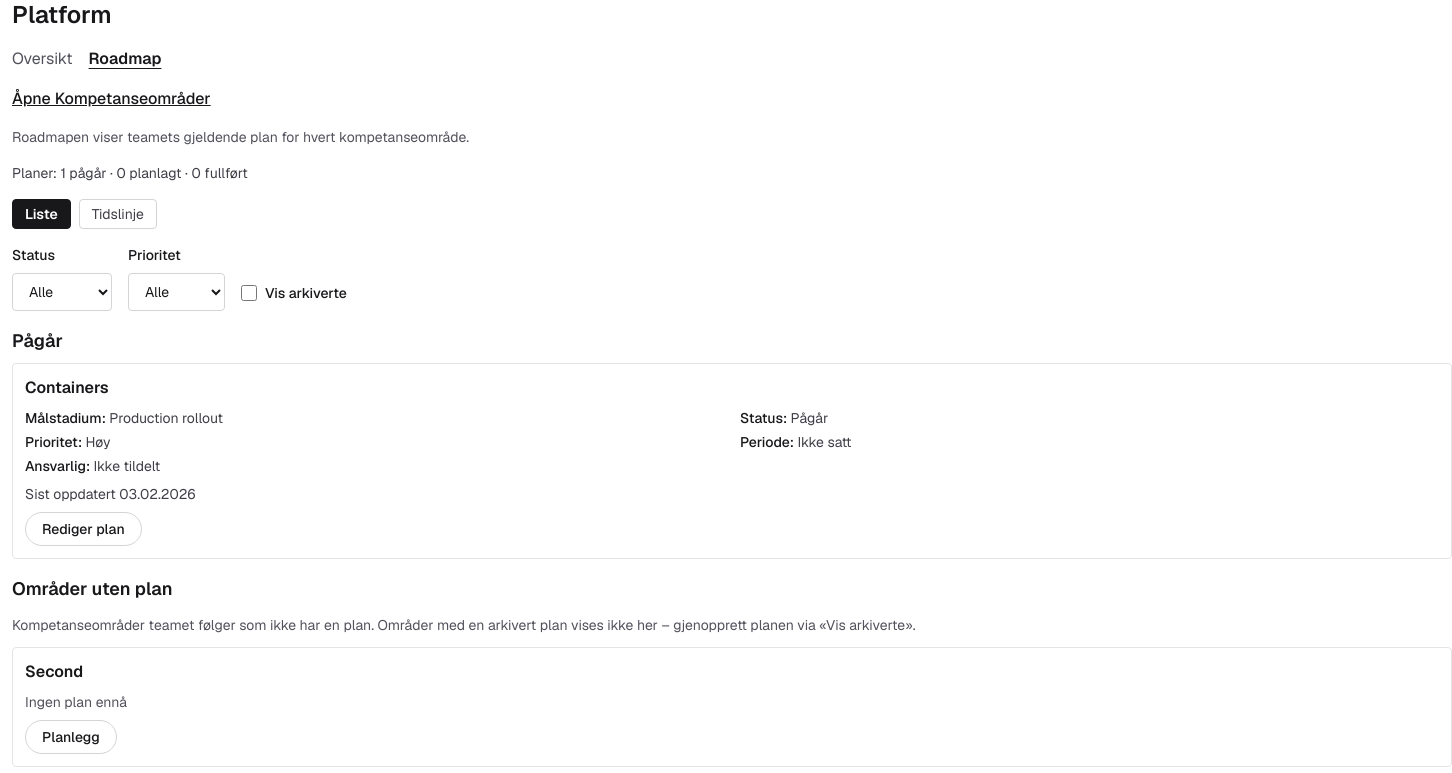
Test: TASK-012 — mid-session permission loss › still maps a forbidden authoritative refetch to the no-access state
Check: the checkbox labelled "Vis arkiverte" is shown, box [241, 285, 257, 301]
Step 1. Click the button with aria-label "Rediger plan – Containers" → (83, 529), box [25, 512, 142, 546]
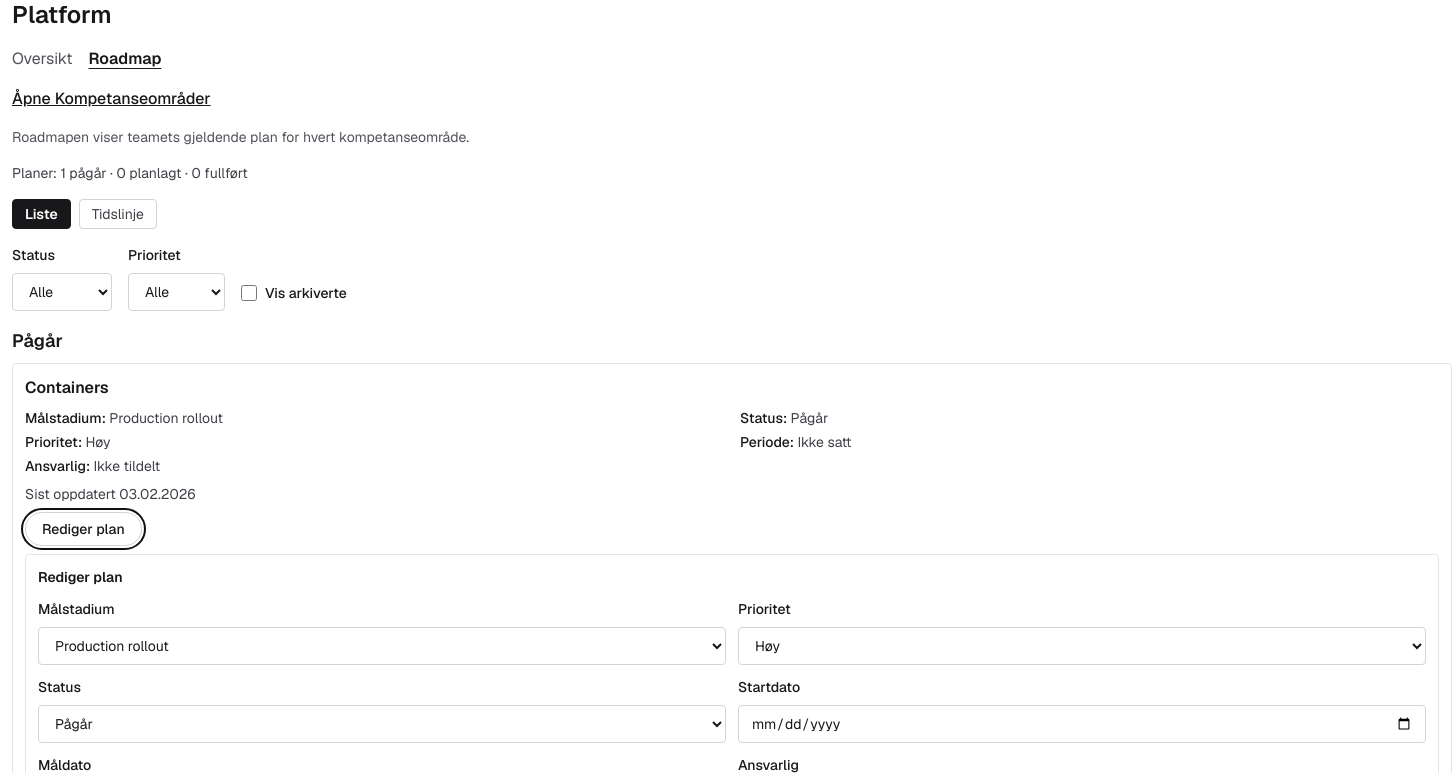
Step 2. Select "Lav" in the dropdown labelled "Prioritet" below "Periode" → (1082, 646), box [738, 627, 1426, 665]
(page scrolled)
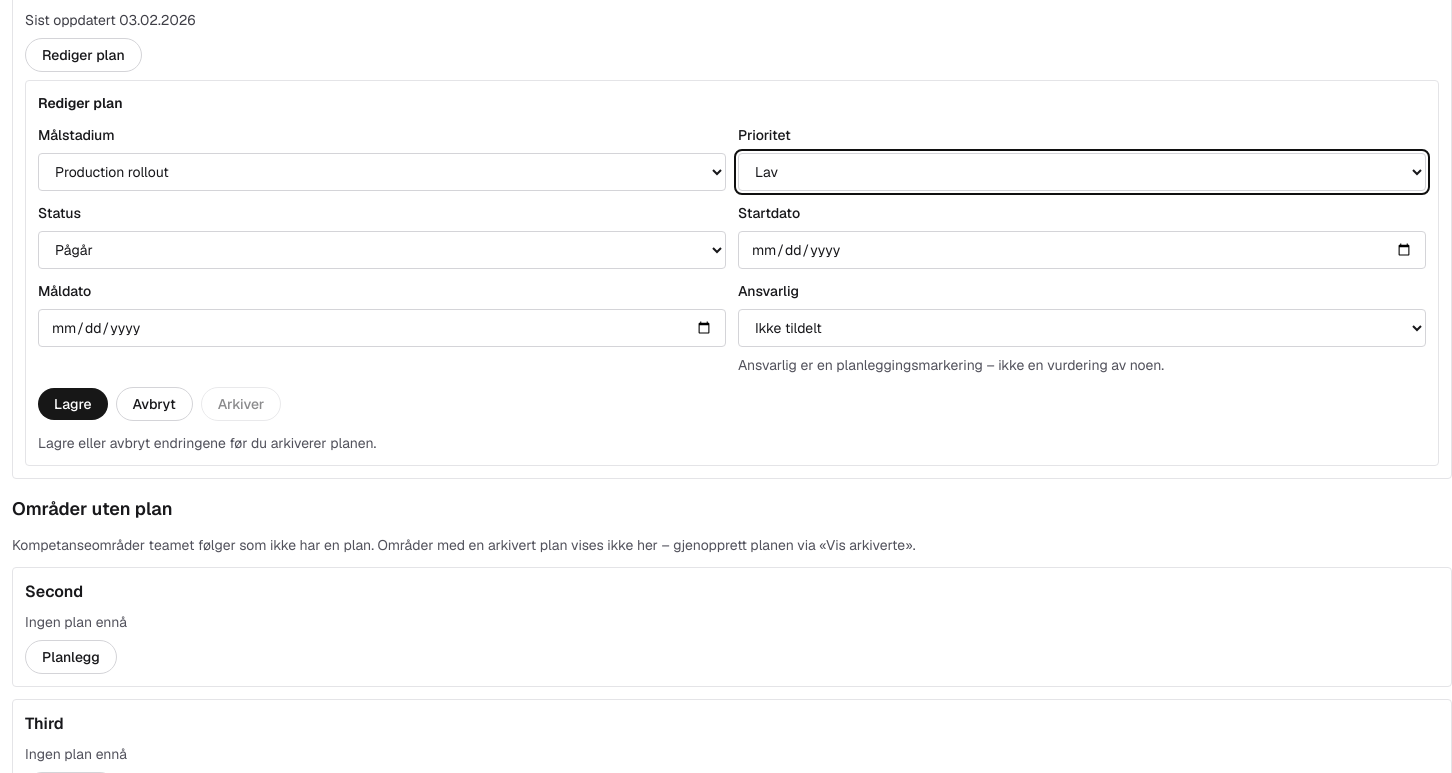
Step 3. Click the button "Lagre" → (73, 404), box [38, 388, 108, 420]
(page scrolled)
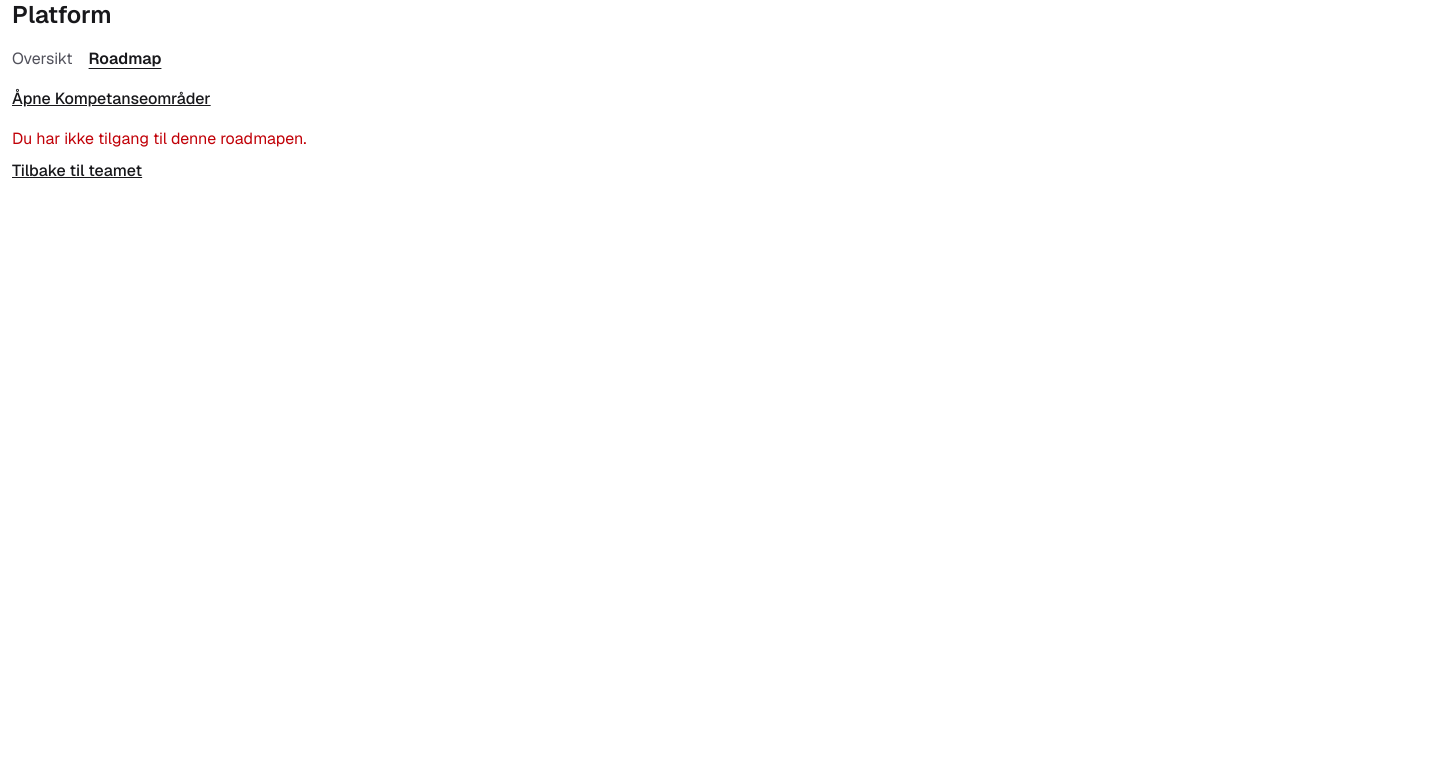
Check: the text "Du har ikke tilgang til denne roadmapen." is shown, box [12, 128, 306, 149]
